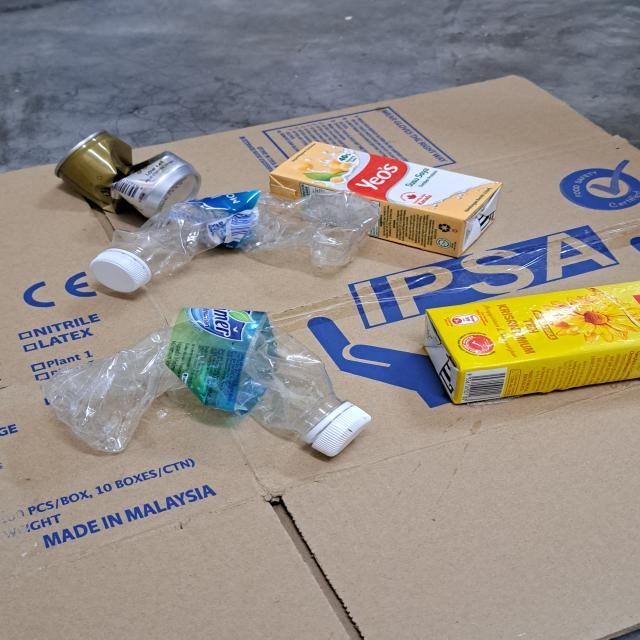can: (55, 129, 200, 217)
cardboard: (0, 74, 640, 640)
drink carton: (268, 140, 503, 257), (423, 282, 640, 405)
plastic bottle: (44, 306, 343, 452), (112, 189, 381, 277)
plastic bottle cap: (90, 250, 150, 293)
